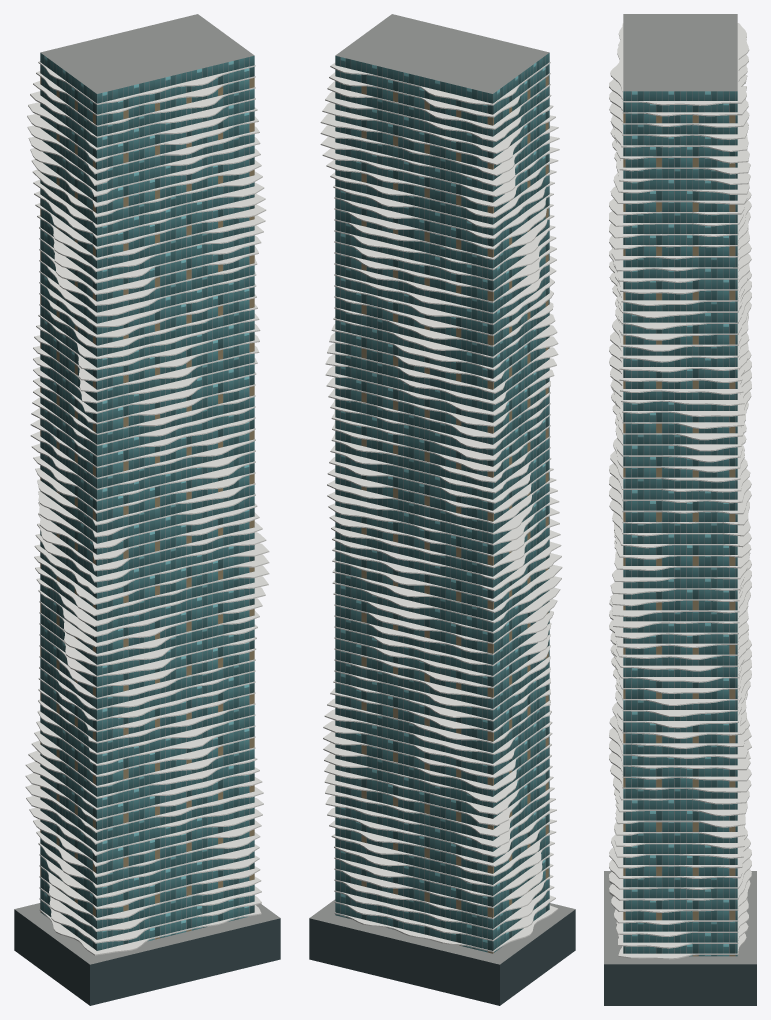
Rendered from aqua.glb.
3 views of the same model, side by side, from view 1: azimuth 30°, elevation 25°; view 2: azimuth 150°, elevation 25°; view 3: azimuth 270°, elevation 25° (orthographic).
Visible parts, largest first — view 1: aqua; view 2: aqua; view 3: aqua.
Boxes of the visible parts, box(x1,y1,x2,y2) form: aqua: box(14, 14, 280, 1005); aqua: box(309, 14, 575, 1005); aqua: box(604, 14, 756, 1005).
Size of the model in its own units: 58 by 262 by 40.
2 materials, 2 textured.
